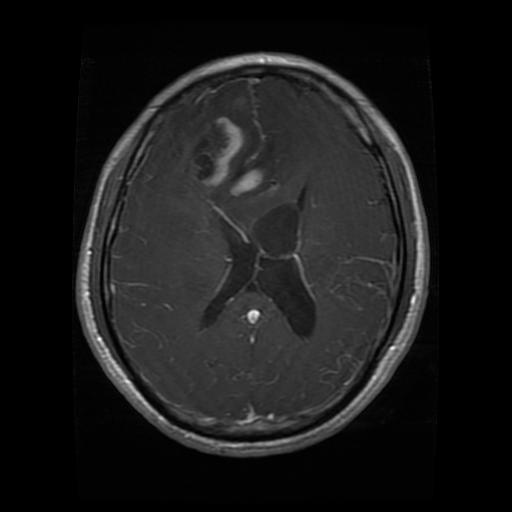Gliomia_tumour: (202, 195, 316, 331)
